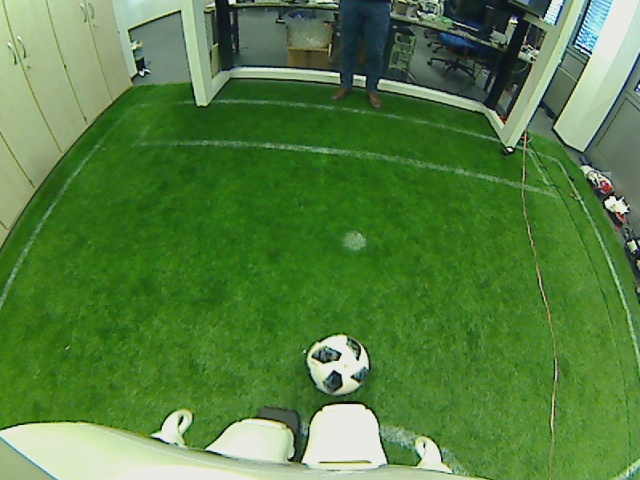ball: (303, 332, 373, 398)
